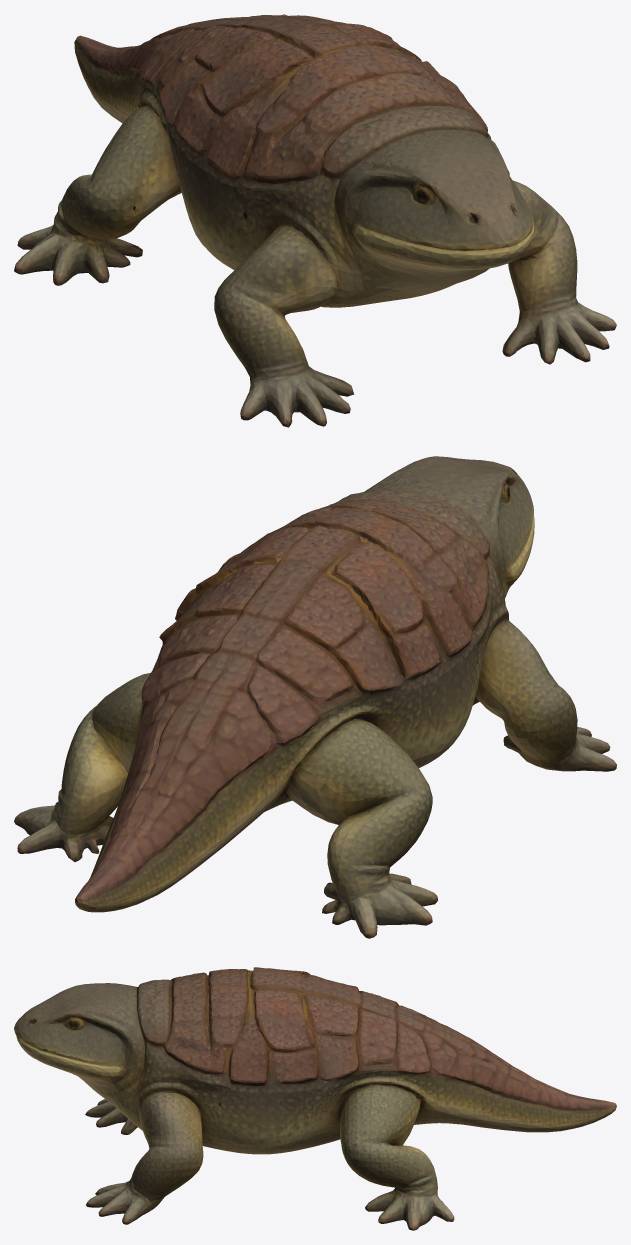
3 renders of one model, top to bottom at view 1: azimuth 30°, elevation 25°; view 2: azimuth 150°, elevation 25°; view 3: azimuth 270°, elevation 25°, orthographic. The views are drawn at different scales.
Visible parts, largest first — view 1: world; view 2: world; view 3: world.
Boxes of the visible parts, <box> form: world: <box>14,14,616,427</box>; world: <box>14,456,616,938</box>; world: <box>14,967,616,1230</box>.
Size of the model in its own units: 0.5587 by 0.3417 by 0.9985.
1 material, 1 textured.
